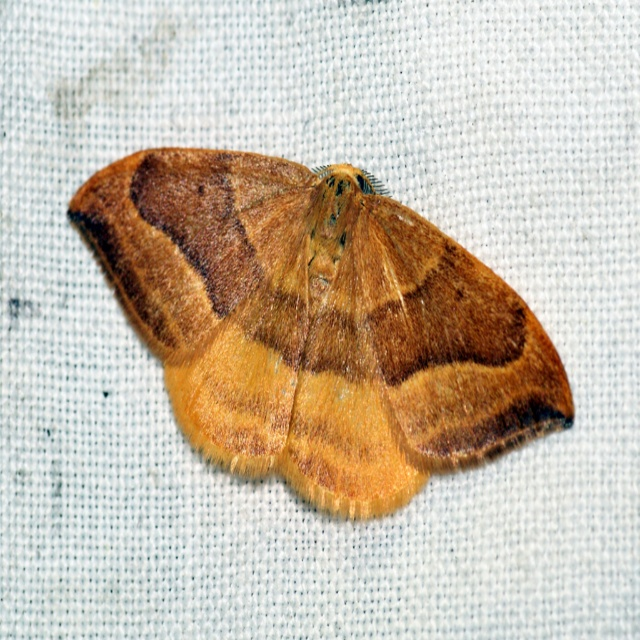Butterfly: (67, 146, 577, 516)
